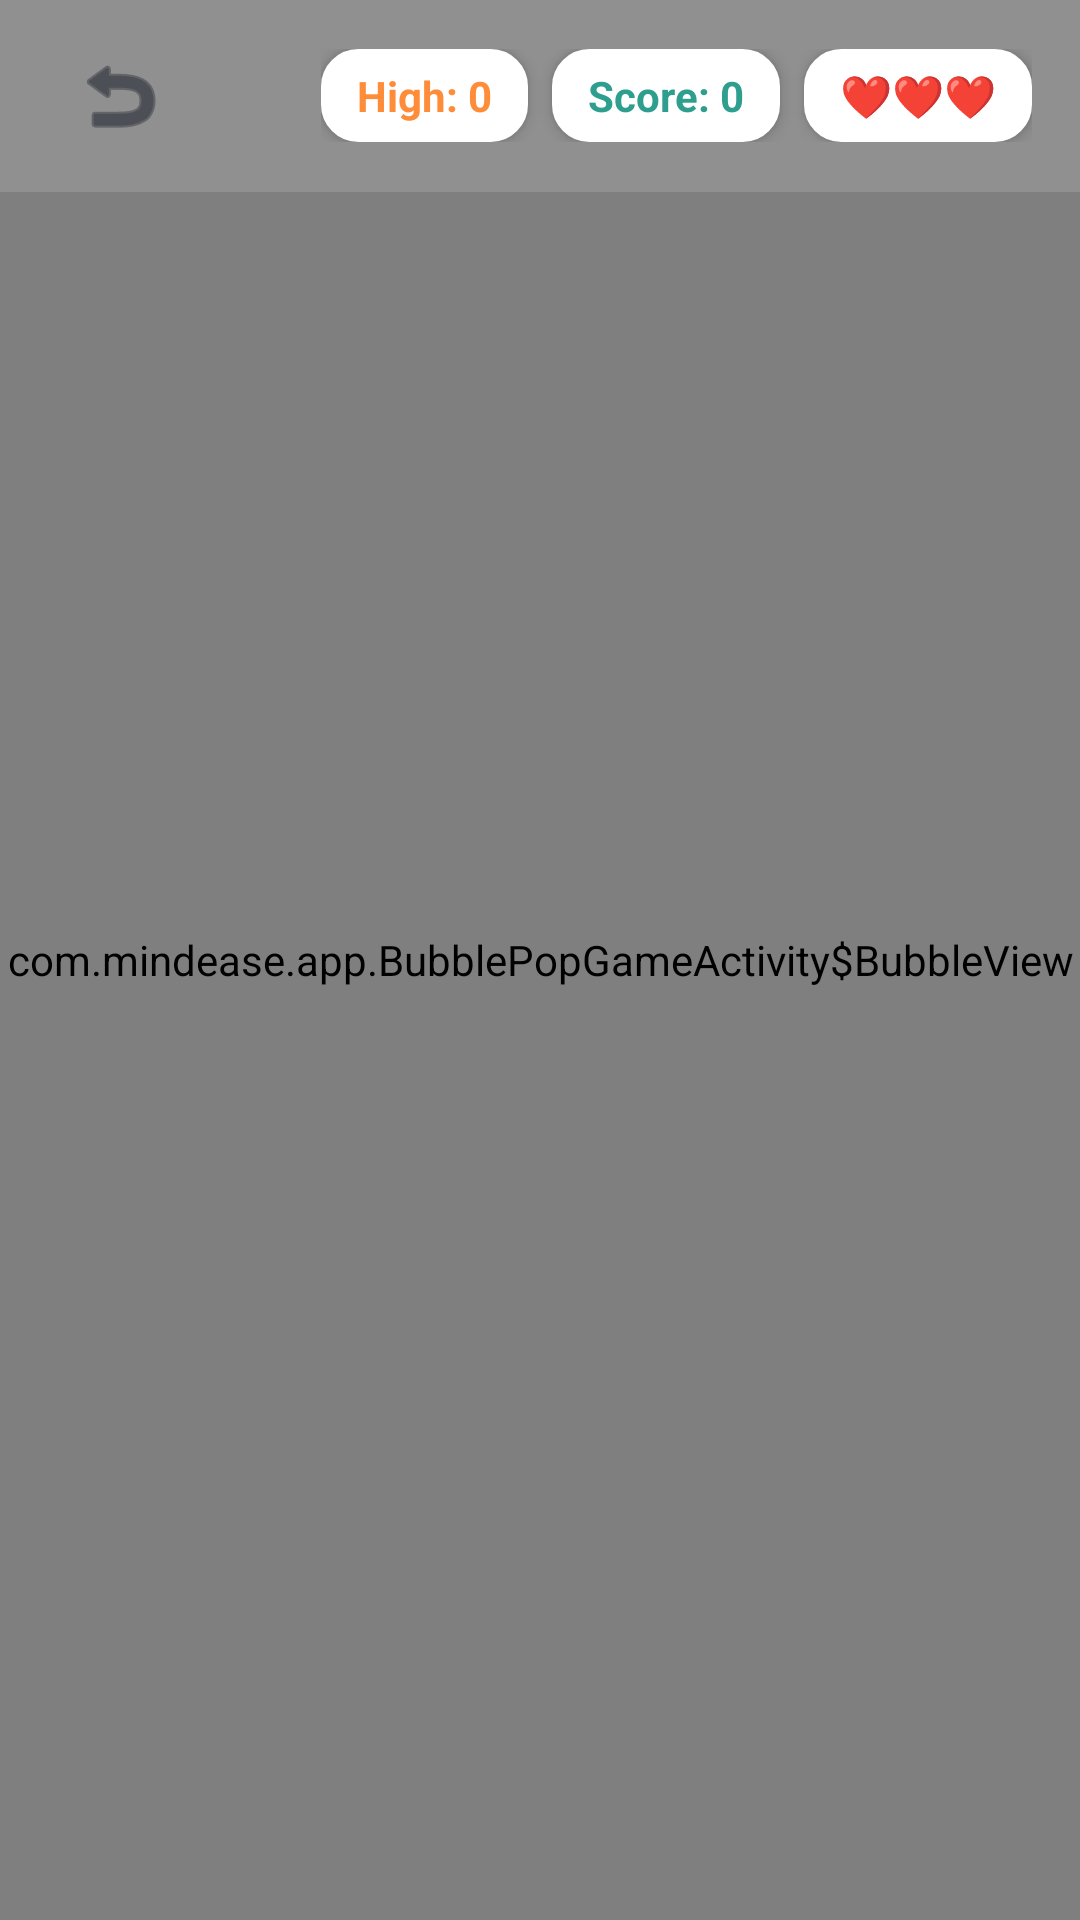

Named icons in this screenshot (1080 x 1920) and their bounding boxes, (x1, y1, x2, y2):
Back: (87, 66, 155, 128)
